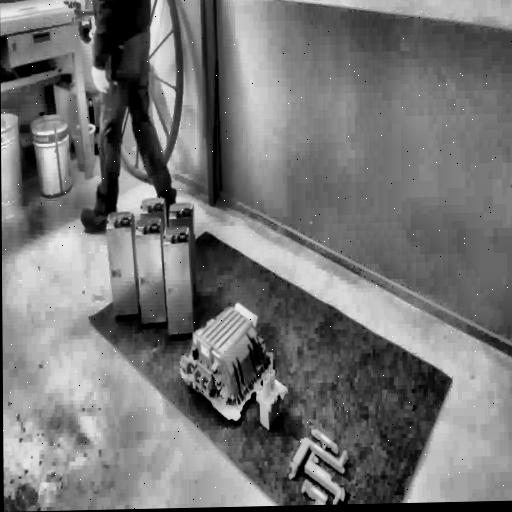battery_module: (106, 211, 139, 318), (161, 227, 193, 336), (134, 217, 166, 324), (166, 202, 193, 220), (140, 197, 166, 214)
bms_unit: (179, 301, 275, 421)
busbar: (285, 421, 356, 506)
connector: (253, 367, 288, 430)
